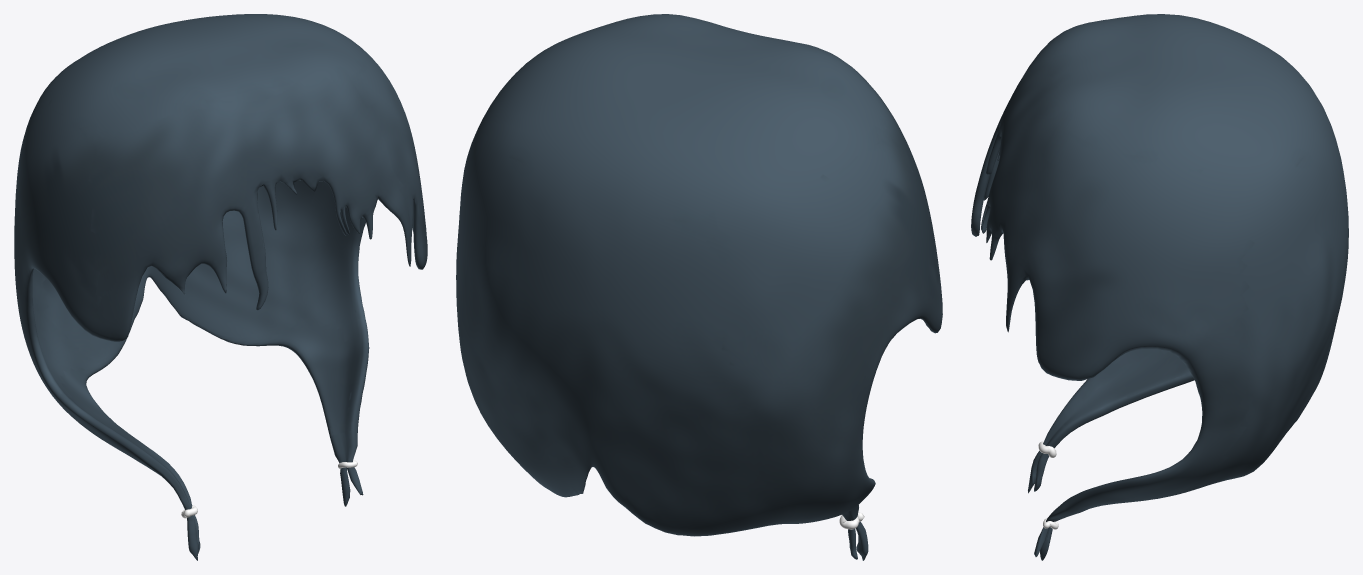
Rendered from Braid_Frosted_Blue.glb.
3 renders of one model, left to right at view 1: azimuth 30°, elevation 25°; view 2: azimuth 150°, elevation 25°; view 3: azimuth 270°, elevation 25°, orthographic. The views are drawn at different scales.
Parts seen in each view (by area): view 1: Braid_Frosted_Blue; view 2: Braid_Frosted_Blue; view 3: Braid_Frosted_Blue.
Boxes of the visible parts, left/top/right/bottom form: Braid_Frosted_Blue: left=14, top=14, right=427, bottom=560; Braid_Frosted_Blue: left=456, top=14, right=942, bottom=560; Braid_Frosted_Blue: left=971, top=14, right=1348, bottom=560.
Bounding box in the file's own units: 0.936 × 1.11 × 0.791.
2 materials, 1 textured.
